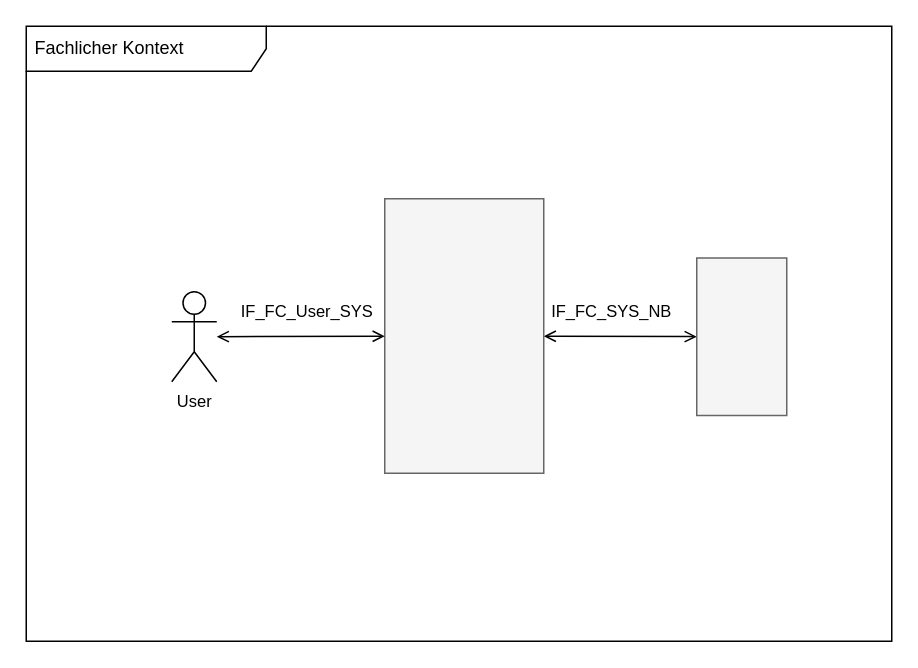
Some shapes in this 918 by 668 pixel diagram are drawn without their labels. The shapes that lost their labels are listed below. From the top down, each one's centre as x and y in pixels, then its label:
At (463,335): "System".
At (741,336): "Nachbar".
